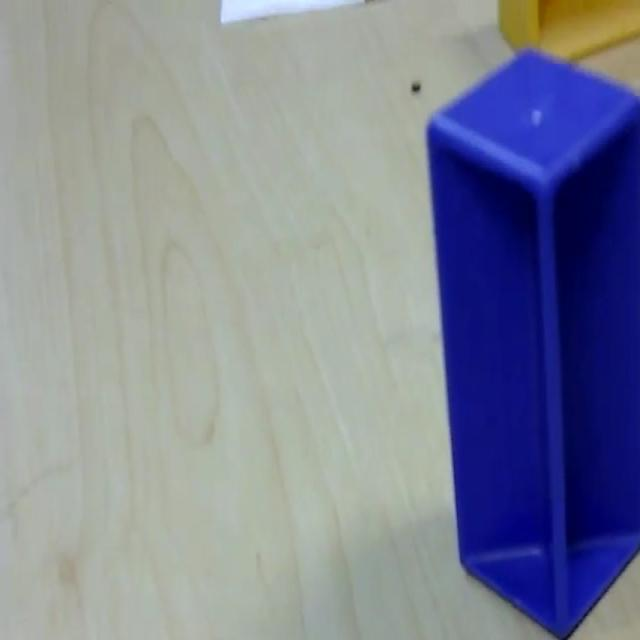blue_block: (424, 44, 638, 636)
yellow_block: (496, 0, 638, 61)
